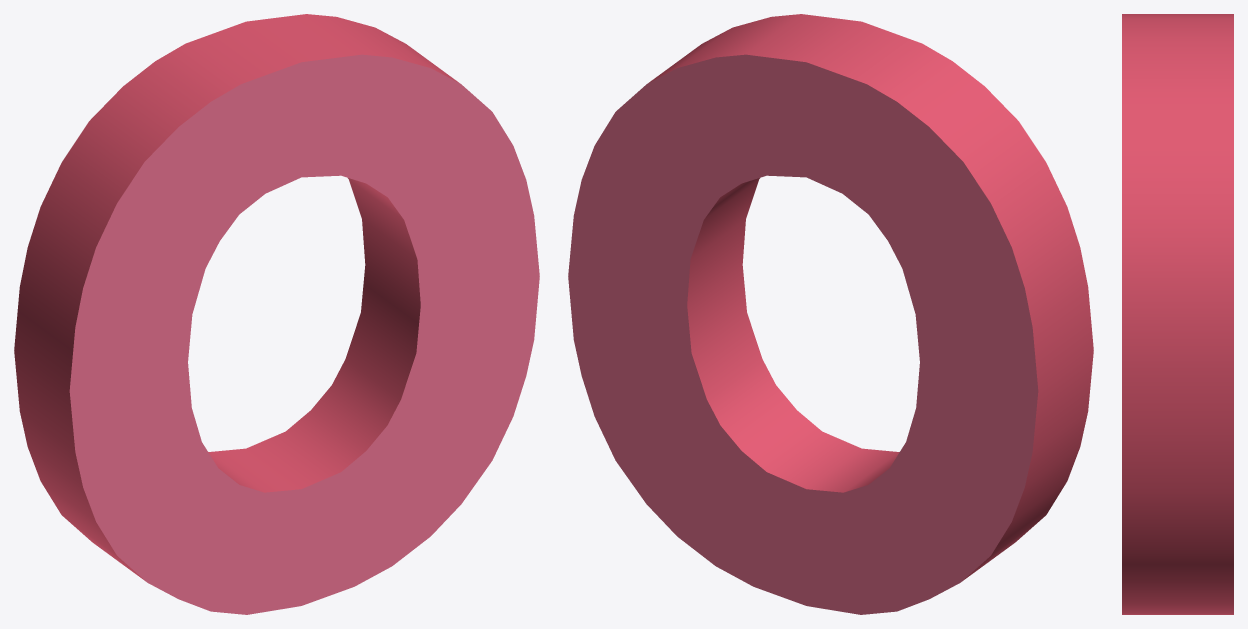
3 renders of one model, left to right at view 1: azimuth 30°, elevation 25°; view 2: azimuth 150°, elevation 25°; view 3: azimuth 270°, elevation 25°, orthographic.
Visible parts, largest first — view 1: Text_O; view 2: Text_O; view 3: Text_O.
Part boxes in pixels (x1,y1,x2,y2): Text_O: (14, 14, 539, 614); Text_O: (568, 14, 1093, 614); Text_O: (1122, 14, 1233, 614).
Size of the model in its own units: 32.98 by 36.45 by 6.74.
